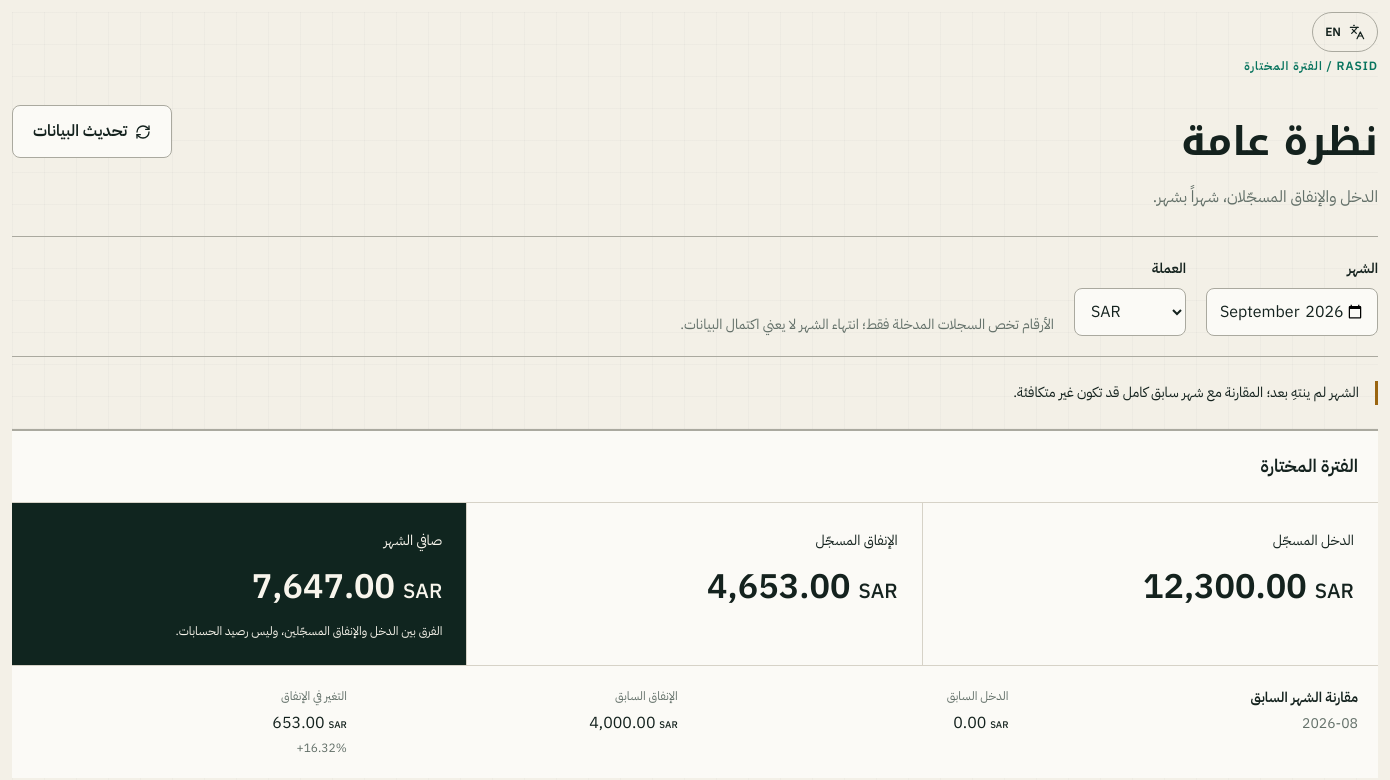
Test case: Overview › does not request an invalid month and refreshes all three resources on demand
The image size is (1390, 780).
Expected: the text "12,300.00" is shown, [1143,561,1307,612]
Click the button "تحديث البيانات".
click(92, 132)  # box [12,105,172,158]
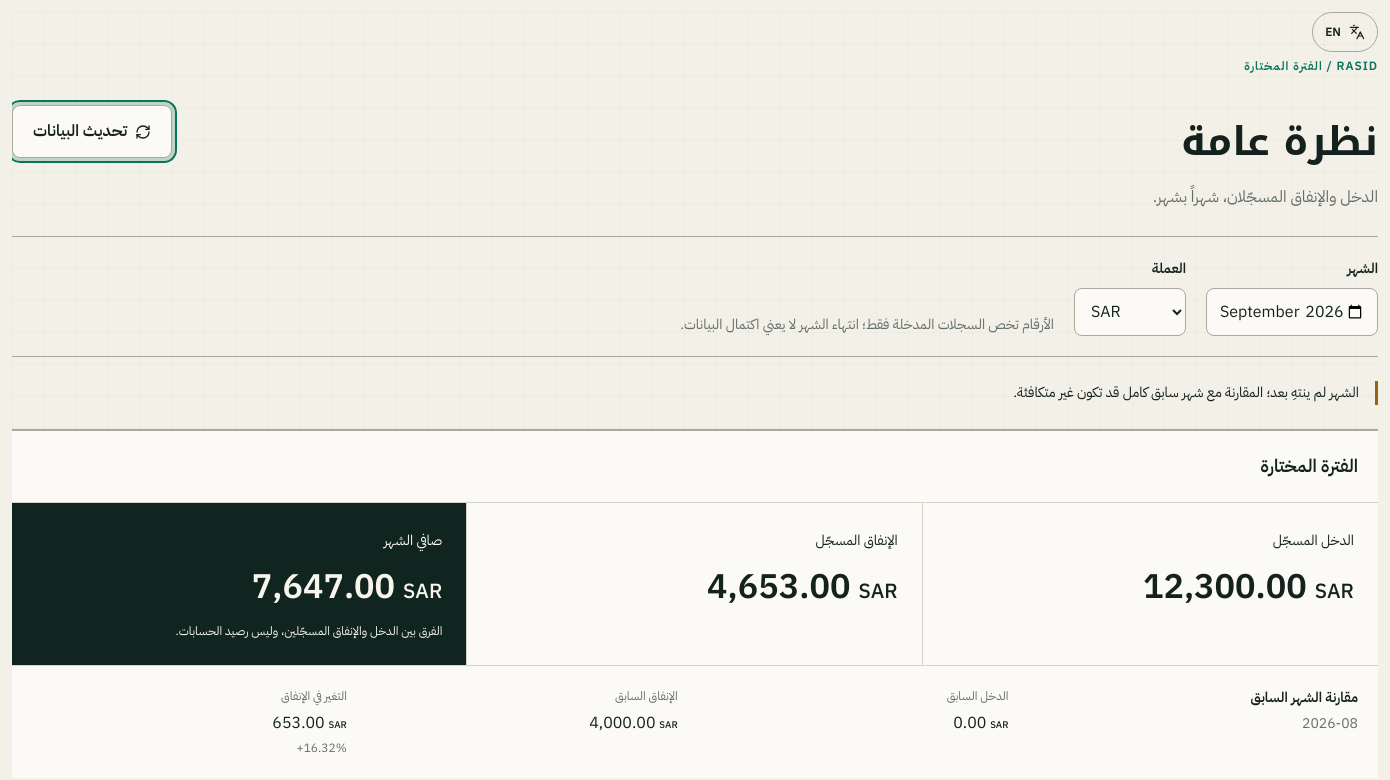
Clear the field labelled "الشهر" at (1292, 312), box [1206,288,1378,336]
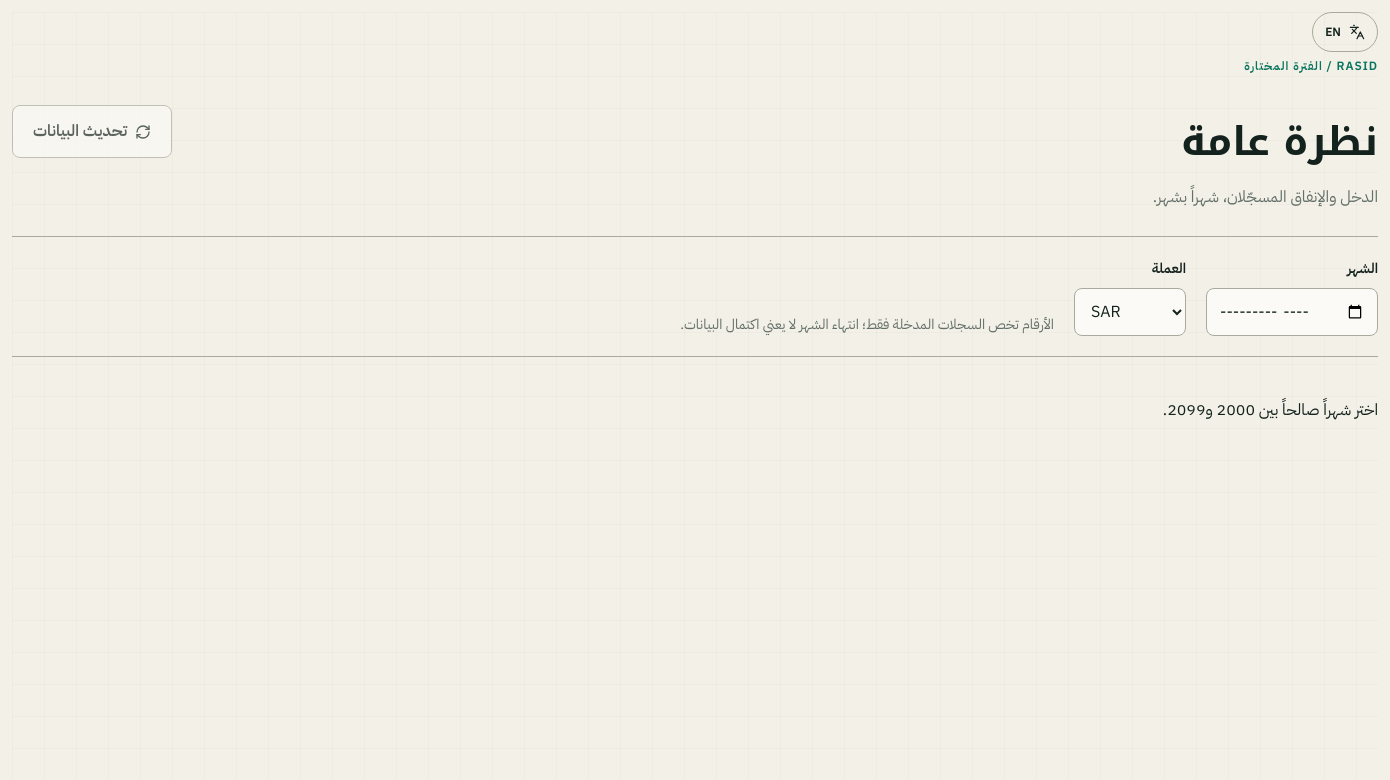
Result: the message shows "اختر شهراً صالحاً" at [1163,398,1378,422]
Result: the button "تحديث البيانات" is disabled at [12,105,172,158]
Result: the text "12,300.00" is gone
